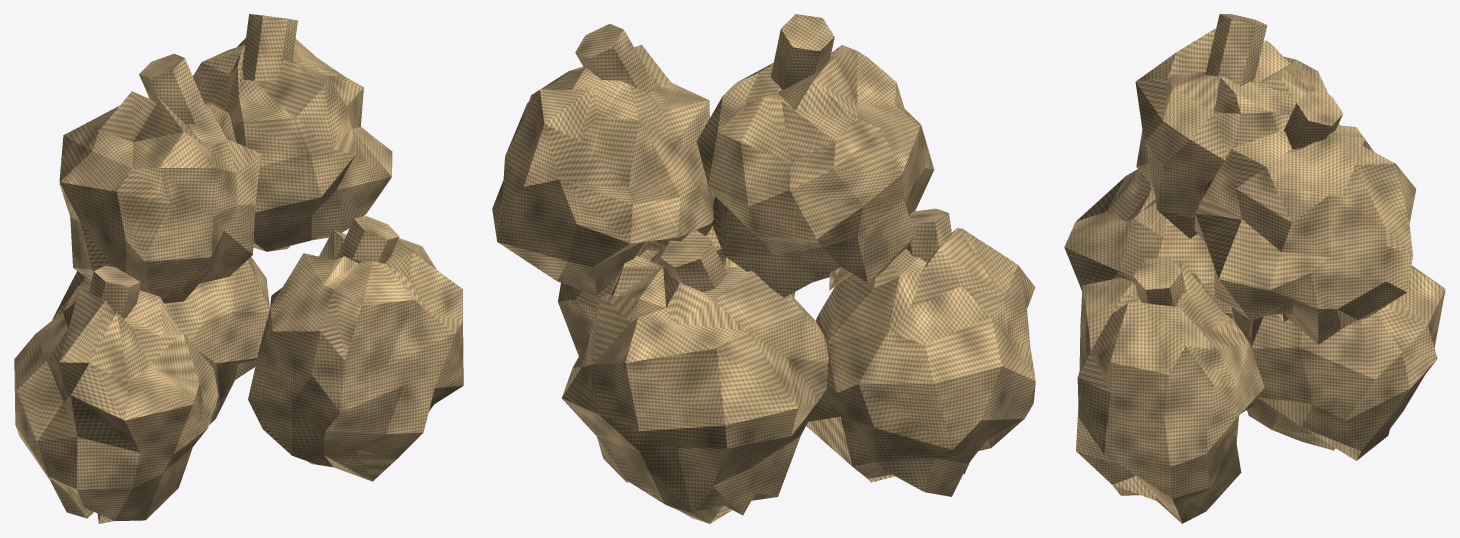
File: sackpile.glb
3 views of the same model, side by side, from view 1: azimuth 30°, elevation 25°; view 2: azimuth 150°, elevation 25°; view 3: azimuth 270°, elevation 25° (orthographic). The views are drawn at different scales.
Parts seen in each view (by area): view 1: sackpile; view 2: sackpile; view 3: sackpile.
Boxes of the visible parts, left/top/right/bottom form: sackpile: left=14, top=14, right=463, bottom=523; sackpile: left=492, top=14, right=1035, bottom=523; sackpile: left=1064, top=14, right=1445, bottom=523.
Size of the model in its own units: 1.18 by 1.14 by 0.9314.
Materials: 1 (1 with a texture image).
